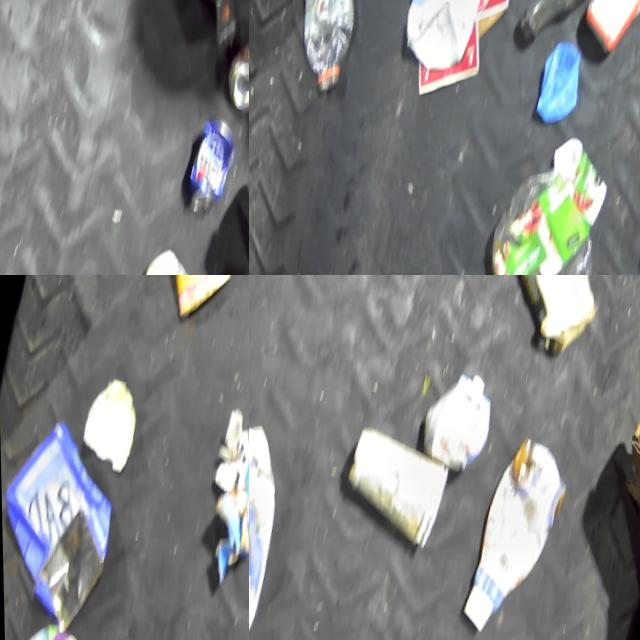can: (177, 96, 241, 210), (155, 275, 245, 329), (218, 19, 249, 105)
milk_jug: (249, 397, 294, 640), (394, 0, 516, 71)
non_white_jug: (1, 611, 91, 640)
plastic_bottle: (278, 0, 375, 95), (510, 0, 640, 61)
